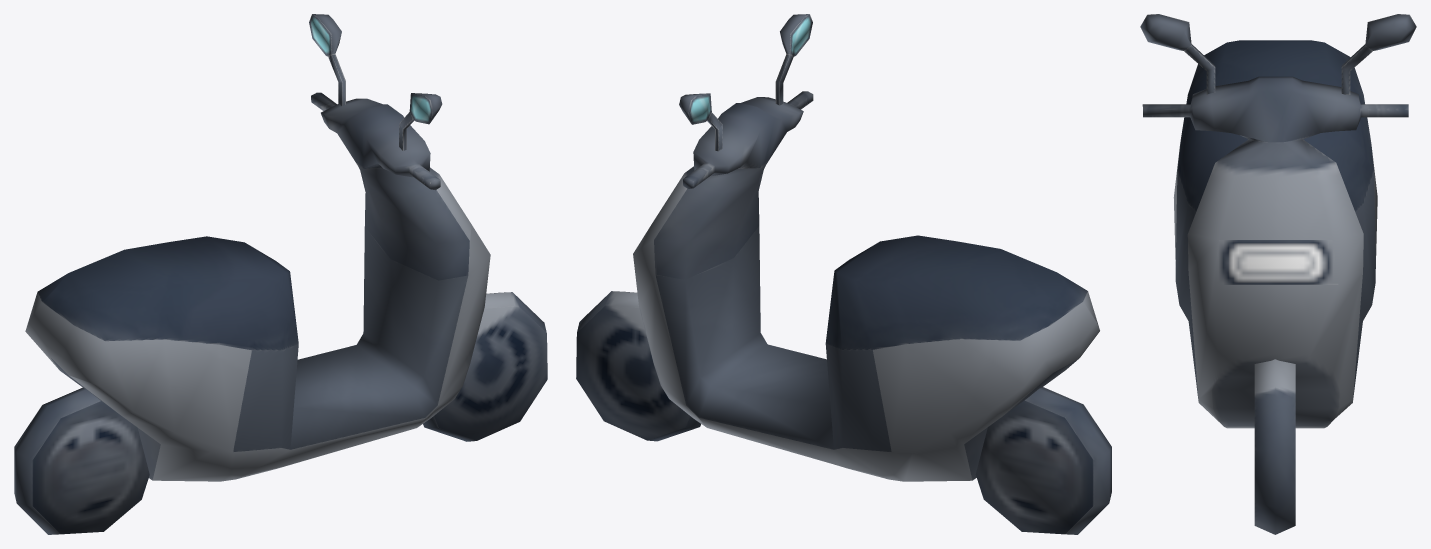
File: Black_scooter.glb
3 views of the same model, side by side, from view 1: azimuth 30°, elevation 25°; view 2: azimuth 150°, elevation 25°; view 3: azimuth 270°, elevation 25° (orthographic). The views are drawn at different scales.
Visible parts, largest first — view 1: Black_scooter.001; view 2: Black_scooter.001; view 3: Black_scooter.001.
Part boxes in pixels (<box>): Black_scooter.001: <box>14,14,547,534</box>; Black_scooter.001: <box>576,14,1111,534</box>; Black_scooter.001: <box>1140,14,1416,534</box>.
Size of the model in its own units: 1.01 by 0.7454 by 0.411.
Materials: 1 (1 with a texture image).
